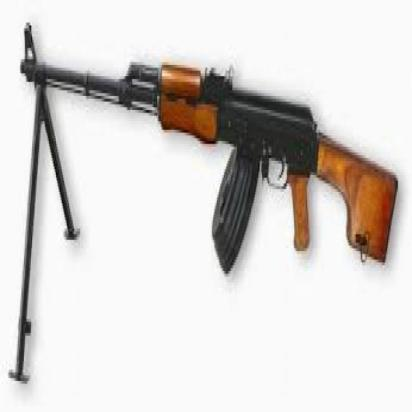Gun: (20, 20, 400, 277)
